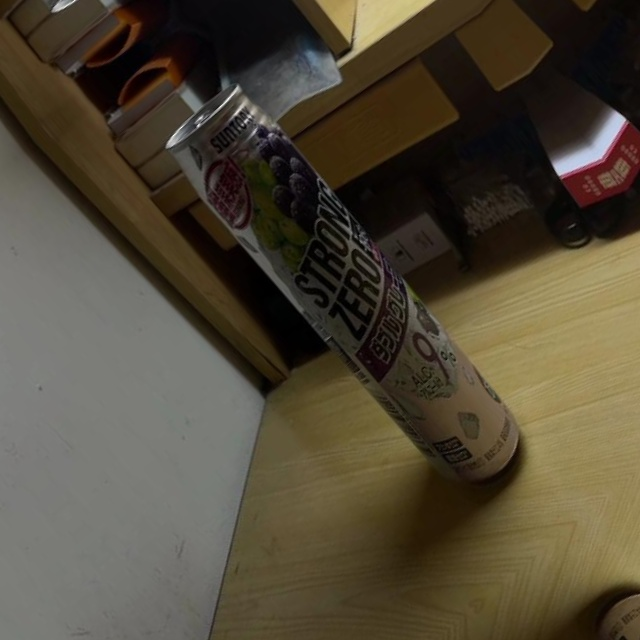Liquor: (155, 74, 544, 510)
